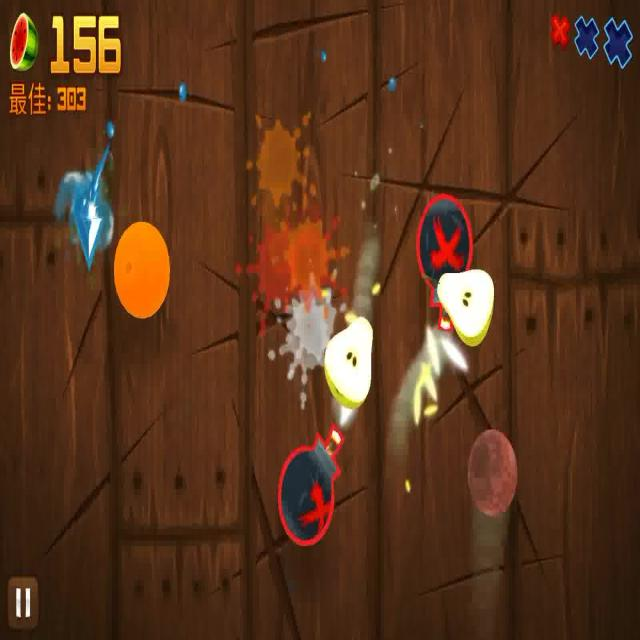bomb: (277, 425, 343, 544), (416, 189, 470, 332)
fruit: (114, 221, 172, 317), (436, 265, 496, 345), (324, 316, 375, 408), (465, 430, 517, 514)
